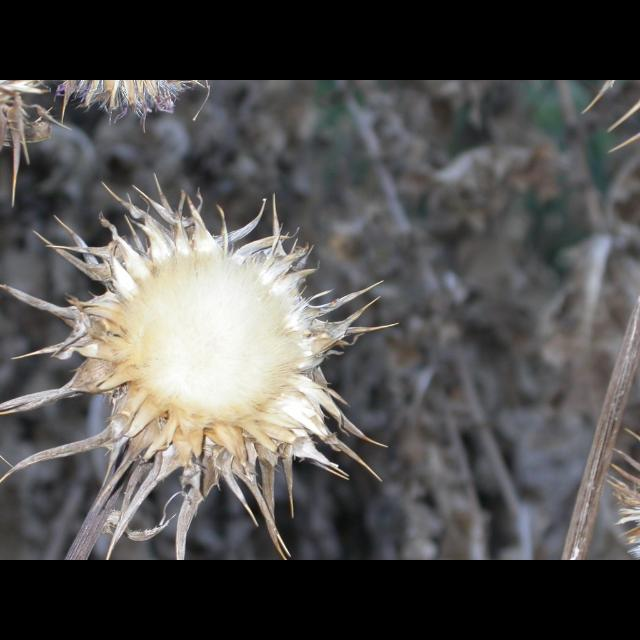Flower: (12, 177, 400, 558)
